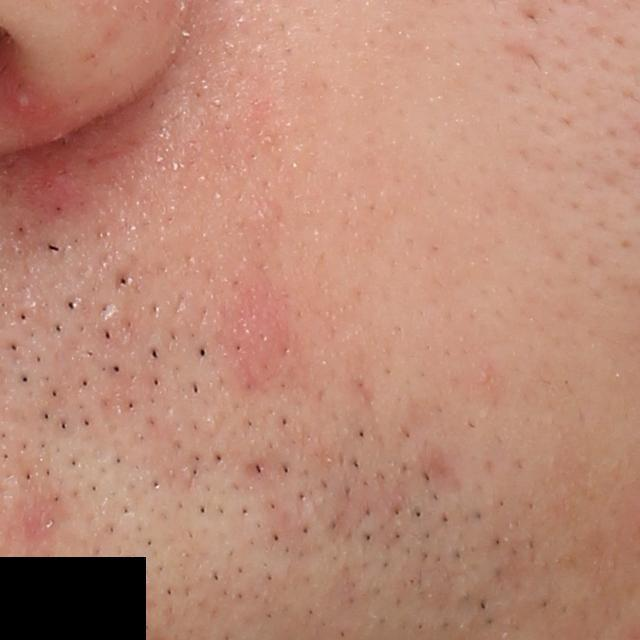pustule: (12, 90, 34, 114)
